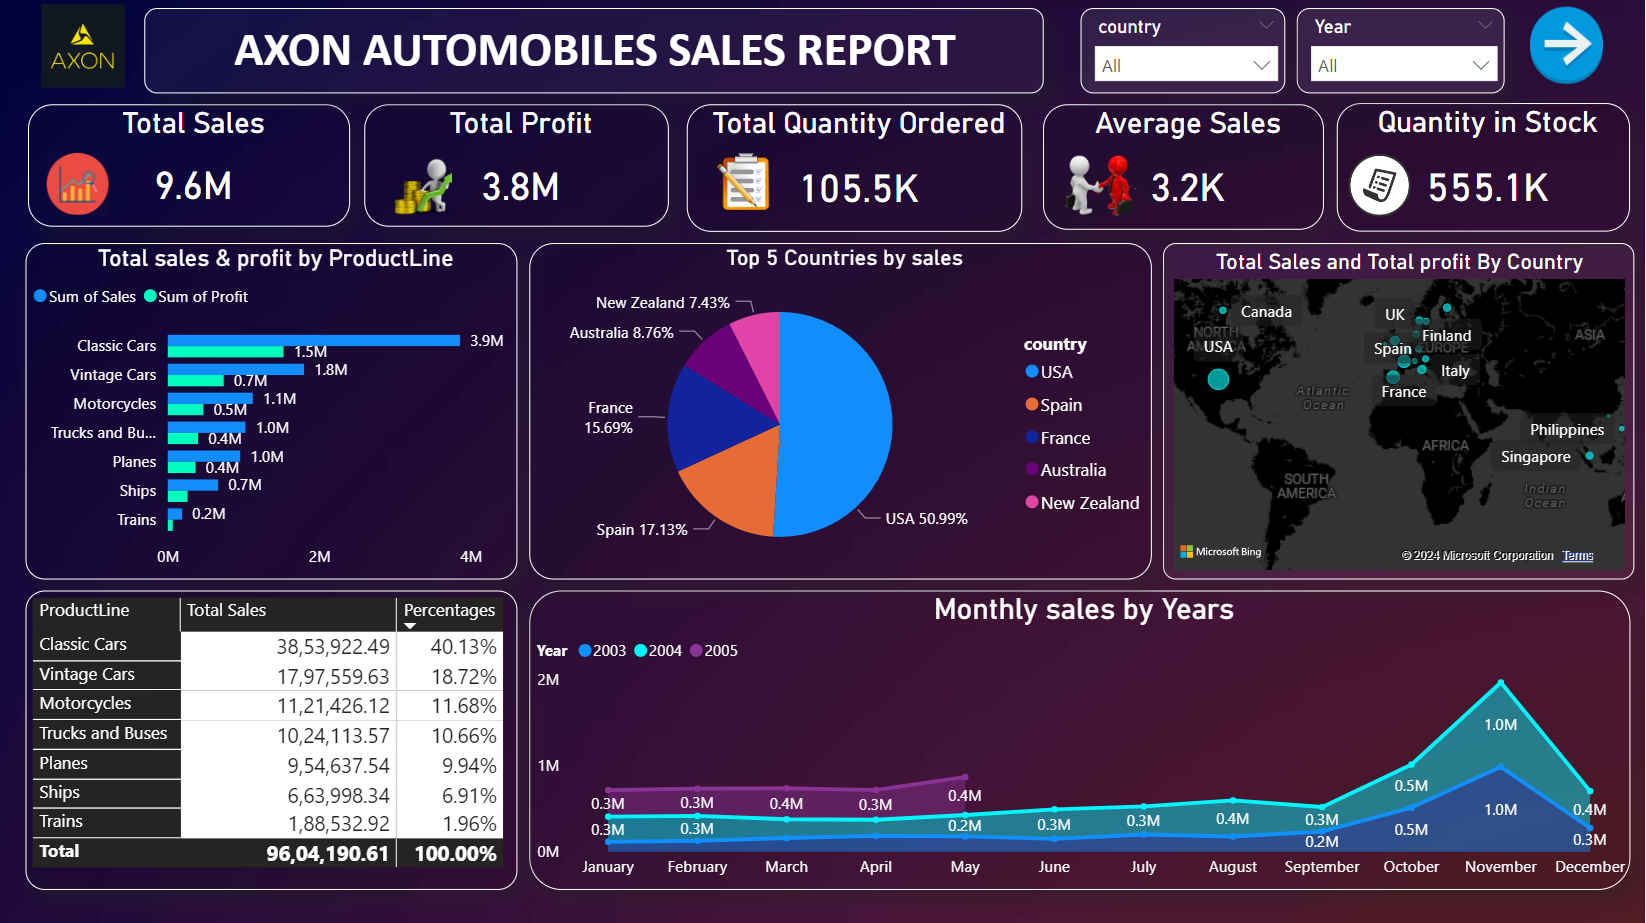

The dashboard page shown, as its layout file describes it:
{"tool":"powerbi","page":{"name":"Page 1","canvas":[1280,720],"ordinal":0},"visuals":[{"type":"card","title":"Total Sales","fields":{"Values":["Orderdetails.Total Sales"]},"box":[23.1,82.4,250.5,94.9],"z":0},{"type":"card","title":"Average Sales","fields":{"Values":["Avg(Orderdetails.Sales)"]},"box":[812.5,82.5,218.8,98],"z":1000},{"type":"card","title":"Total Profit","fields":{"Values":["Sum(Orderdetails.Profit)"]},"box":[285,82.5,236.9,95.2],"z":2000},{"type":"card","title":"Quantity in Stock","fields":{"Values":["Sum(Products.quantityInStock)"]},"box":[1041,81.9,227.7,100],"z":3000},{"type":"textbox","box":[114,8.1,698.8,66.3],"z":4000},{"type":"map","title":"Total Sales and Total profit By Country","fields":{"Category":["Customers.country"],"Size":["Sum(Orderdetails.Sales)"]},"box":[905.8,190.7,366.3,261.6],"z":6000},{"type":"image","box":[256.5,115.7,147.5,61.6],"z":7000},{"type":"image","box":[24.1,115.7,74.7,57.6],"z":8000},{"type":"image","box":[781.4,113.4,150,69],"z":9000},{"type":"image","box":[1004.7,115.1,138.4,61.6],"z":10000},{"type":"card","title":"Total Quantity Ordered","fields":{"Values":["Sum(Orderdetails.QuantityOrdered)"]},"box":[535,82.5,260.7,98.8],"z":12000},{"type":"image","box":[534.9,115.1,93,58.1],"z":13000},{"type":"stackedAreaChart","title":"Monthly sales by Years","fields":{"Y":["Sum(Orderdetails.Sales)"],"Category":["DATE.MonthName"],"Series":["DATE.Year"]},"box":[412.8,460.5,855.8,232.6],"z":14000},{"type":"clusteredBarChart","title":"Total sales & profit by ProductLine","fields":{"Category":["Productlines.ProductLine"],"Y":["Sum(Orderdetails.Sales)","Sum(Orderdetails.Profit)"]},"box":[20.9,190.7,382.6,261.6],"z":15000},{"type":"pieChart","title":"Top 5 Countries by sales ","fields":{"Y":["Sum(Orderdetails.Sales)"],"Category":["Customers.country"]},"box":[412.8,190.7,483.7,261.6],"z":16000},{"type":"slicer","fields":{"Values":["DATE.Year"]},"box":[1009.3,8.1,161.6,66.3],"z":17000},{"type":"slicer","fields":{"Values":["Customers.country"]},"box":[841.9,8.1,159.3,66.3],"z":18000},{"type":"image","box":[0,0,132.6,74.4],"z":19000},{"type":"image","box":[1184.9,2.3,69.8,69.8],"z":20000},{"type":"pivotTable","fields":{"Rows":["Productlines.ProductLine"],"Values":["Orderdetails.Total Sales","Measure.Percentages"]},"box":[20.9,460.5,382.6,232.6],"z":21000}]}

Visuals, with their boxes in screenshot pixels (x1, y1, x2, y2), scaled from the page's 1280x720 canvas onto the 1646x923 screenshot:
"Total Sales" card: (left=30, top=106, right=352, bottom=227)
"Average Sales" card: (left=1045, top=106, right=1326, bottom=231)
"Total Profit" card: (left=366, top=106, right=671, bottom=228)
"Quantity in Stock" card: (left=1339, top=105, right=1631, bottom=233)
textbox: (left=147, top=10, right=1045, bottom=95)
"Total Sales and Total profit By Country" map: (left=1165, top=244, right=1636, bottom=580)
image: (left=330, top=148, right=520, bottom=227)
image: (left=31, top=148, right=127, bottom=222)
image: (left=1005, top=145, right=1198, bottom=234)
image: (left=1292, top=148, right=1470, bottom=227)
"Total Quantity Ordered" card: (left=688, top=106, right=1023, bottom=232)
image: (left=688, top=148, right=807, bottom=222)
"Monthly sales by Years" stackedAreaChart: (left=531, top=590, right=1631, bottom=889)
"Total sales & profit by ProductLine" clusteredBarChart: (left=27, top=244, right=519, bottom=580)
"Top 5 Countries by sales " pieChart: (left=531, top=244, right=1153, bottom=580)
slicer - DATE.Year: (left=1298, top=10, right=1506, bottom=95)
slicer - Customers.country: (left=1083, top=10, right=1287, bottom=95)
image: (left=0, top=0, right=171, bottom=95)
image: (left=1524, top=3, right=1613, bottom=92)
pivotTable - Productlines.ProductLine x Orderdetails.Total Sales: (left=27, top=590, right=519, bottom=889)
